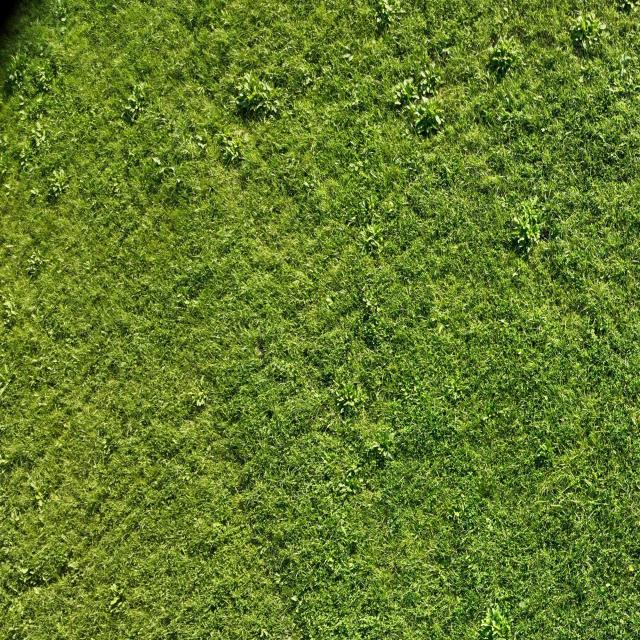rumex: (148, 204, 264, 329), (421, 338, 505, 462), (336, 128, 418, 246), (155, 117, 217, 190), (486, 86, 546, 149), (101, 143, 141, 200), (486, 1, 531, 43), (5, 47, 32, 94), (333, 377, 363, 418), (15, 552, 50, 587), (610, 54, 638, 96), (369, 425, 398, 464), (160, 205, 190, 240), (218, 131, 246, 165), (339, 464, 368, 496), (376, 0, 406, 27), (459, 3, 487, 30), (358, 192, 383, 220), (188, 376, 211, 406), (106, 578, 128, 609), (391, 78, 413, 108), (236, 464, 258, 494), (24, 250, 45, 281), (435, 30, 459, 56), (414, 112, 437, 136), (34, 65, 54, 91), (416, 69, 436, 93), (31, 125, 50, 150), (50, 168, 69, 192), (156, 160, 176, 182), (120, 104, 140, 126), (52, 1, 69, 26), (100, 437, 120, 458), (524, 220, 541, 244), (26, 475, 44, 496), (240, 70, 256, 92), (8, 51, 23, 73), (18, 150, 33, 171), (513, 256, 529, 274), (365, 234, 382, 250), (129, 82, 146, 98), (419, 95, 434, 112), (621, 54, 631, 75), (2, 298, 15, 314), (0, 382, 11, 400), (187, 17, 200, 32), (265, 101, 278, 116), (572, 30, 584, 46), (339, 521, 350, 538), (248, 91, 262, 104), (367, 442, 382, 454), (491, 605, 500, 624), (320, 65, 333, 78), (427, 61, 439, 75), (126, 95, 138, 109), (622, 1, 636, 13), (616, 146, 628, 159), (342, 53, 354, 65), (302, 76, 314, 88), (67, 560, 79, 572), (580, 17, 589, 33), (324, 294, 334, 308), (432, 114, 442, 128), (436, 322, 445, 337), (338, 397, 350, 408), (538, 442, 549, 454), (109, 582, 120, 594), (338, 481, 350, 492), (228, 95, 240, 106), (259, 626, 270, 638), (282, 43, 294, 54), (173, 177, 183, 190), (34, 120, 43, 134), (29, 187, 40, 198), (19, 565, 30, 576), (34, 96, 44, 108), (438, 569, 448, 581), (264, 409, 274, 421), (451, 510, 462, 520), (518, 236, 528, 247), (392, 34, 402, 45), (596, 22, 606, 33), (181, 296, 191, 306), (195, 134, 205, 144), (325, 556, 335, 566), (52, 188, 62, 198), (197, 140, 207, 150), (17, 110, 27, 120), (68, 353, 78, 363), (272, 572, 282, 582), (152, 156, 162, 166), (490, 49, 499, 60), (531, 194, 539, 206), (302, 180, 312, 189), (101, 438, 109, 449), (578, 74, 586, 85), (451, 392, 459, 402), (511, 270, 519, 279), (502, 5, 510, 14), (0, 457, 8, 466), (290, 596, 299, 604), (38, 499, 44, 510), (4, 182, 12, 190), (110, 3, 118, 11), (394, 99, 402, 107), (503, 124, 509, 134), (9, 74, 16, 82), (63, 422, 70, 430), (628, 563, 634, 572), (60, 28, 66, 36), (274, 100, 280, 108), (53, 493, 59, 501), (96, 430, 100, 442)
